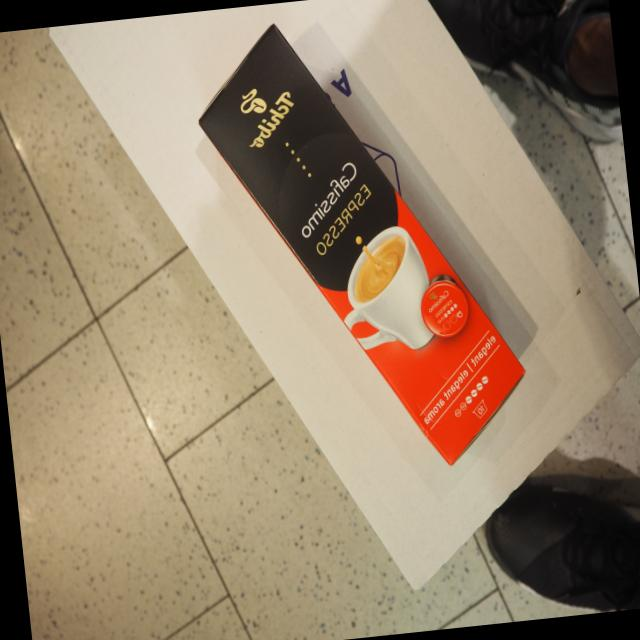Simo Es Elegant: (192, 17, 532, 473)
